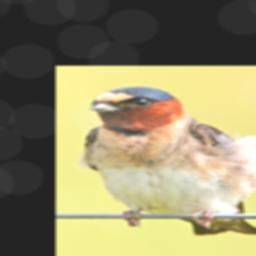Swallow: (77, 86, 256, 237)
